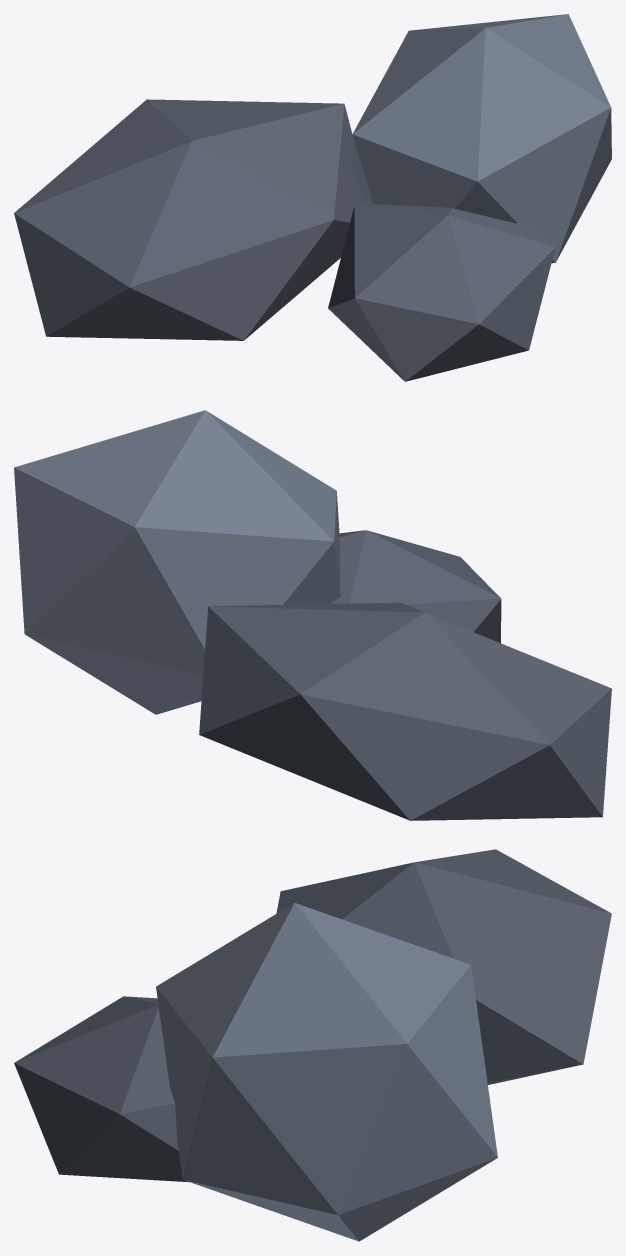
File: EXTW_WestCluster_01.glb
3 renders of one model, top to bottom at view 1: azimuth 30°, elevation 25°; view 2: azimuth 150°, elevation 25°; view 3: azimuth 270°, elevation 25°, orthographic. The views are drawn at different scales.
Visible parts, largest first — view 1: EXTW_WestCluster_01; view 2: EXTW_WestCluster_01; view 3: EXTW_WestCluster_01.
Part boxes in pixels (x1,y1,x2,y2): EXTW_WestCluster_01: [14, 14, 611, 381]; EXTW_WestCluster_01: [14, 410, 611, 820]; EXTW_WestCluster_01: [14, 849, 611, 1241].
Size of the model in its own units: 2.12 by 0.9773 by 1.61.
